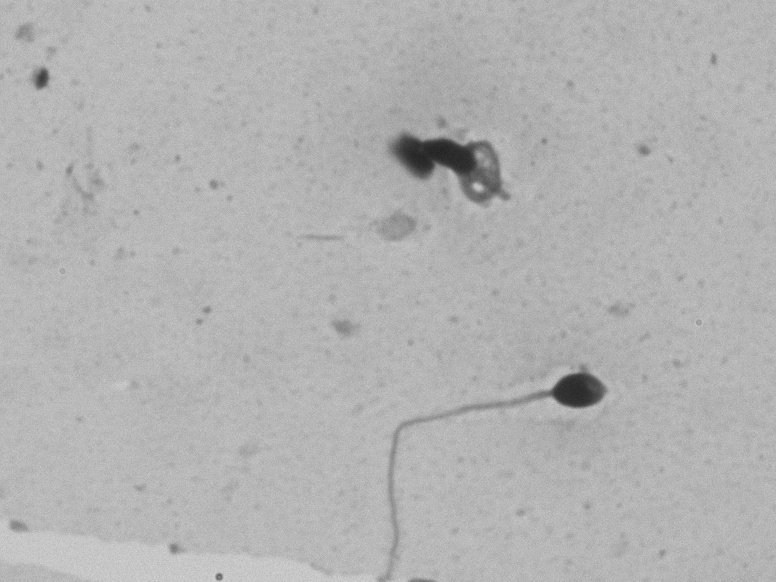Abnormal: (255, 322, 615, 556)
